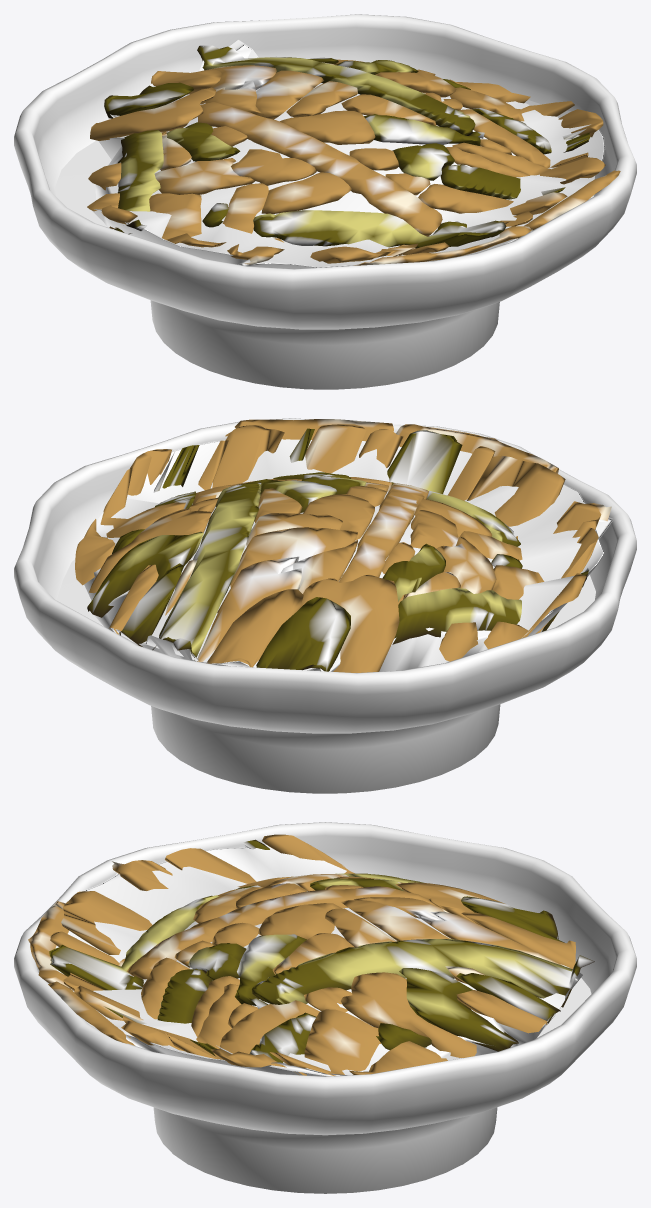
3 renders of one model, top to bottom at view 1: azimuth 30°, elevation 25°; view 2: azimuth 150°, elevation 25°; view 3: azimuth 270°, elevation 25°, orthographic.
Visible parts, largest first — view 1: SM_D04; view 2: SM_D04; view 3: SM_D04.
Boxes of the visible parts, x1,y1,x2,y2 form: SM_D04: (14, 14, 636, 389); SM_D04: (14, 418, 636, 793); SM_D04: (14, 822, 636, 1193).
Size of the model in its own units: 0.1736 by 0.0634 by 0.1736.
